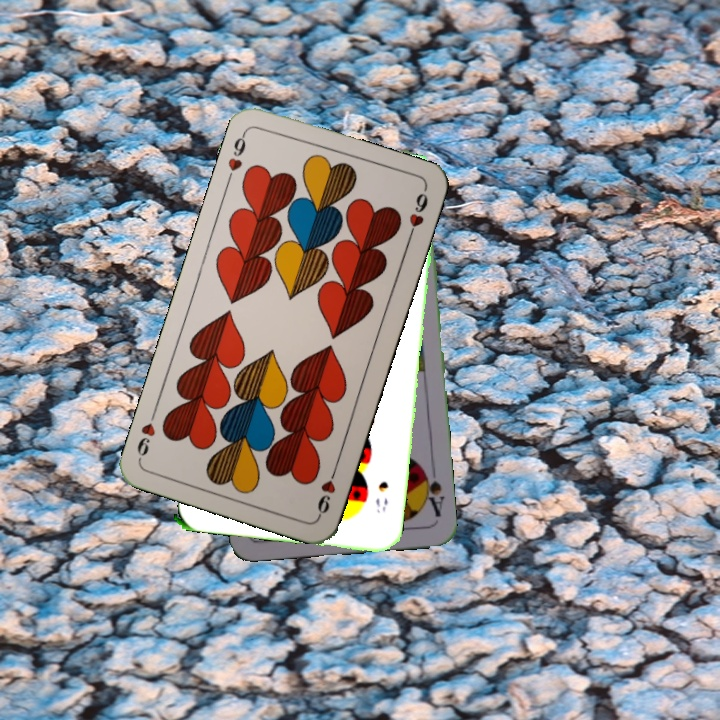H9: (313, 462, 340, 519), (223, 128, 249, 185)
S8: (371, 477, 391, 515)
SA: (417, 463, 447, 520)
